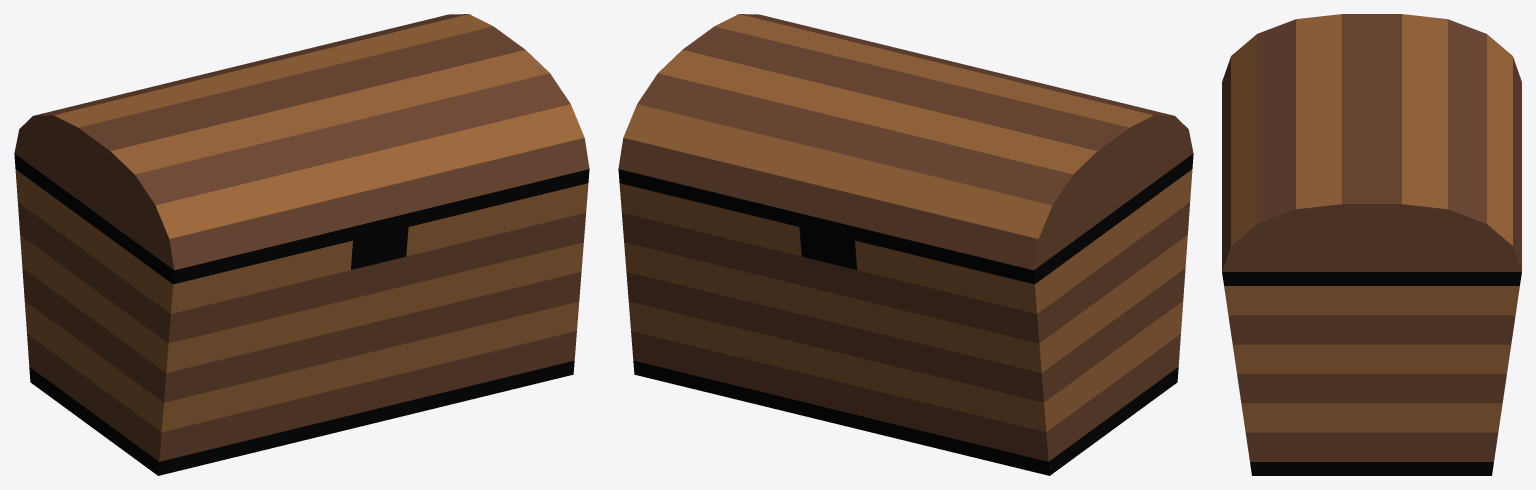
Rendered from Chest.fbx.
3 views of the same model, side by side, from view 1: azimuth 30°, elevation 25°; view 2: azimuth 150°, elevation 25°; view 3: azimuth 270°, elevation 25° (orthographic). The views are drawn at different scales.
Visible parts, largest first — view 1: Chest; view 2: Chest; view 3: Chest.
Boxes of the visible parts, left/top/right/bottom form: Chest: left=14, top=14, right=589, bottom=475; Chest: left=618, top=14, right=1193, bottom=475; Chest: left=1222, top=14, right=1521, bottom=475.
Bounding box in the file's own units: 0.3 × 0.2 × 0.2.
